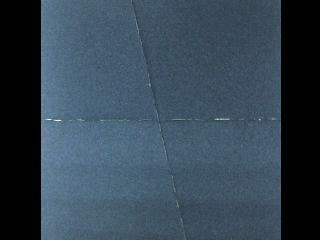crack: (128, 0, 189, 240), (41, 110, 281, 131)
